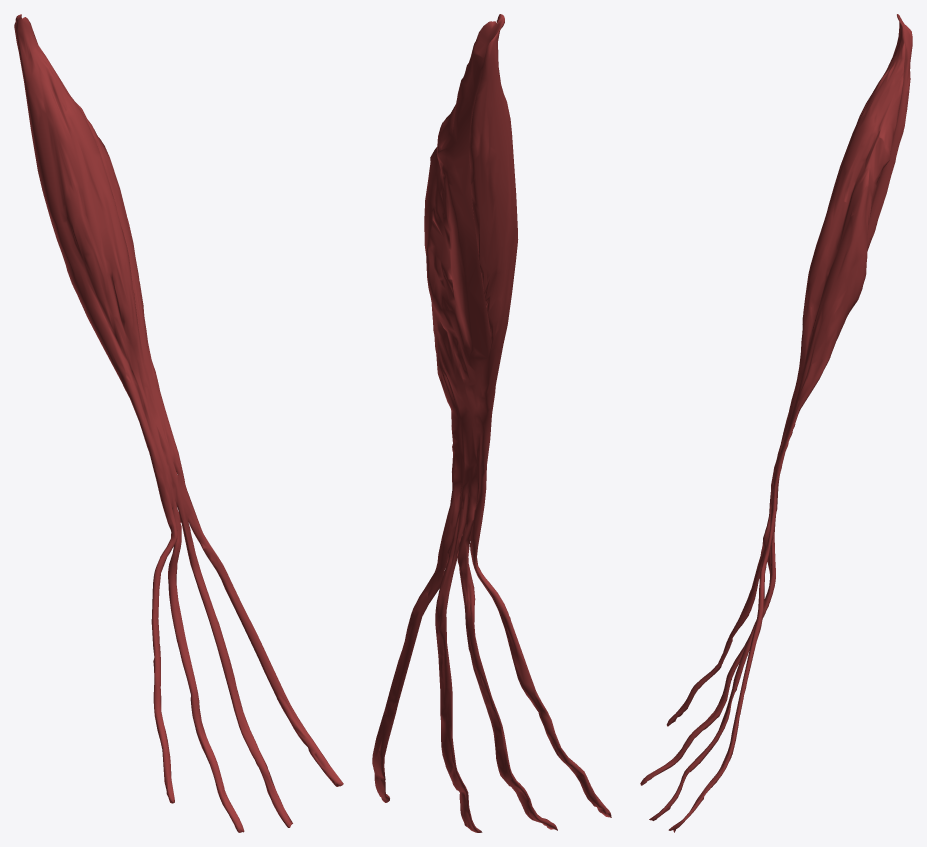
The model's file is flexor-digitorum-profundus-l.glb.
3 renders of one model, left to right at view 1: azimuth 30°, elevation 25°; view 2: azimuth 150°, elevation 25°; view 3: azimuth 270°, elevation 25°, orthographic. The views are drawn at different scales.
Parts seen in each view (by area): view 1: Flexor digitorum profundus.l; view 2: Flexor digitorum profundus.l; view 3: Flexor digitorum profundus.l.
Boxes of the visible parts, <box> form: Flexor digitorum profundus.l: <box>14,14,343,832</box>; Flexor digitorum profundus.l: <box>372,14,611,832</box>; Flexor digitorum profundus.l: <box>640,14,912,832</box>.
Bounding box in the file's own units: 0.1065 × 0.365 × 0.1221.
